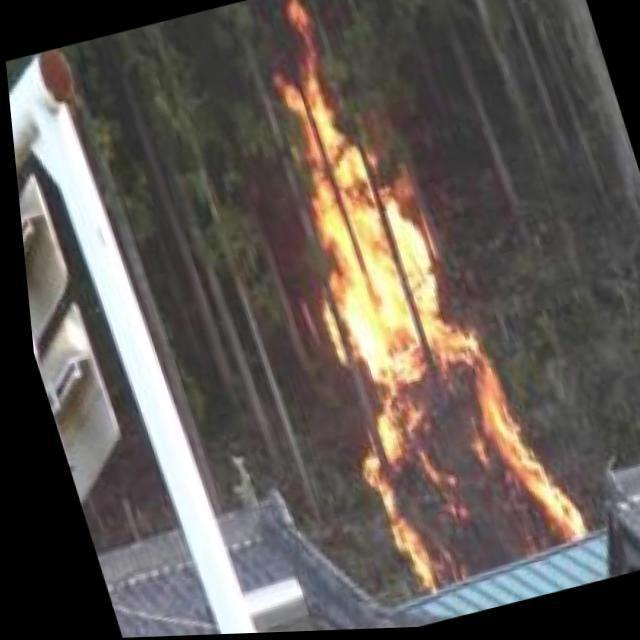fire: (220, 0, 584, 606)
